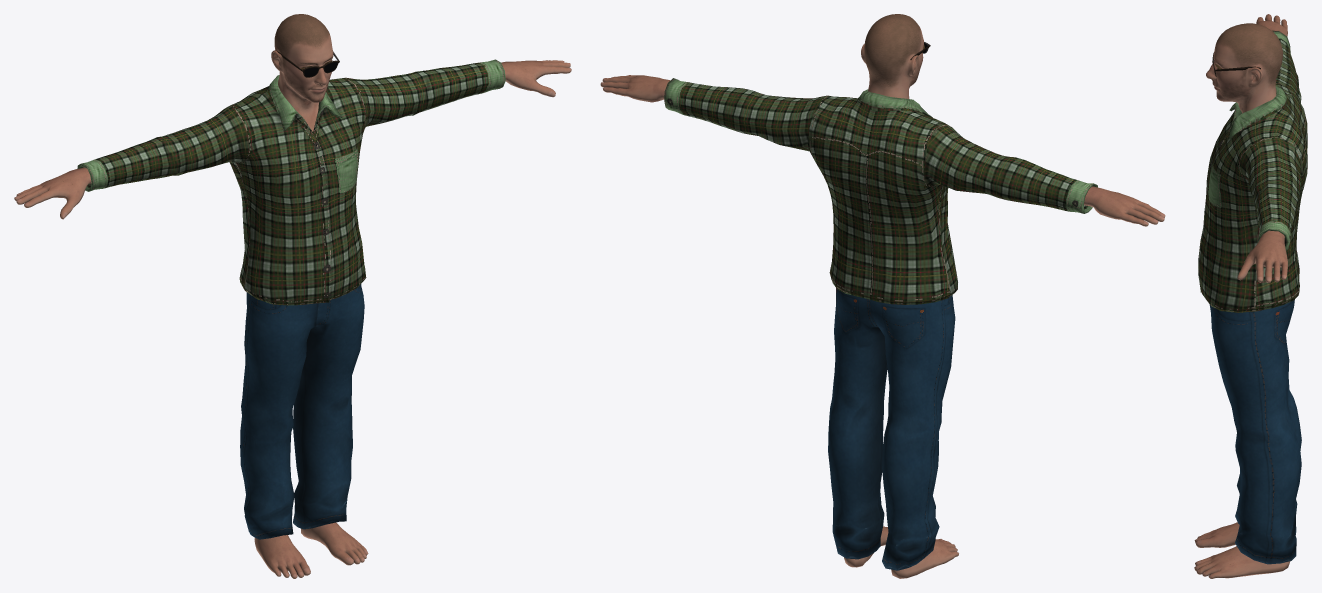
The picture shows the model from 3 angles, left to right: view 1: azimuth 30°, elevation 25°; view 2: azimuth 150°, elevation 25°; view 3: azimuth 270°, elevation 25°; orthographic projection.
Parts seen in each view (by area): view 1: Tops, Bottoms, Body; view 2: Tops, Bottoms, Body; view 3: Tops, Bottoms, Body.
Part boxes in pixels (box(x1,y1,x2,y2)): Tops: box(77, 59, 505, 305); Bottoms: box(240, 284, 364, 539); Body: box(14, 14, 571, 578); Tops: box(664, 78, 1097, 304); Bottoms: box(828, 288, 955, 570); Body: box(600, 14, 1165, 578); Tops: box(1198, 30, 1307, 312); Bottoms: box(1209, 299, 1301, 564); Body: box(1194, 14, 1290, 578).
Size of the model in its own units: 194 by 179 by 34.58.
4 materials, 4 textured.
